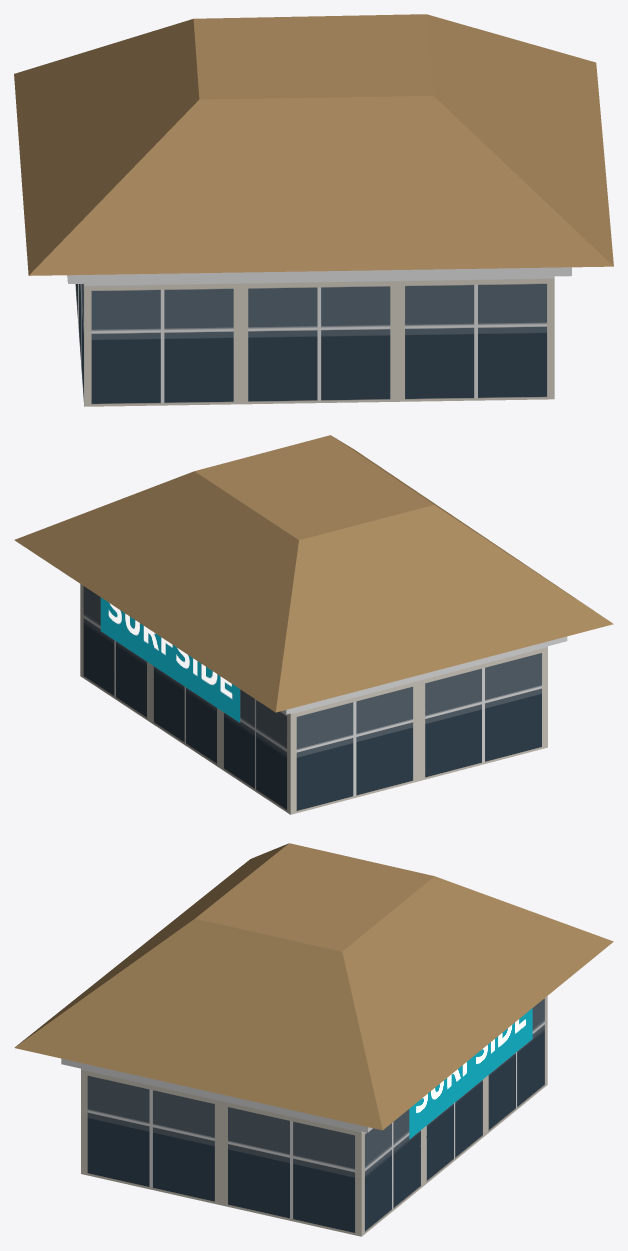
Rendered from surfside.glb.
3 renders of one model, top to bottom at view 1: azimuth 30°, elevation 25°; view 2: azimuth 150°, elevation 25°; view 3: azimuth 270°, elevation 25°, orthographic. The views are drawn at different scales.
Visible parts, largest first — view 1: surfside_lod0; view 2: surfside_lod0; view 3: surfside_lod0.
Part boxes in pixels (x1,y1,x2,y2): surfside_lod0: [14, 14, 613, 406]; surfside_lod0: [14, 435, 613, 814]; surfside_lod0: [14, 843, 613, 1236].
Size of what is drawn, in the model's own units: 15.56 by 6.2 by 14.53.
4 materials, 2 textured.
